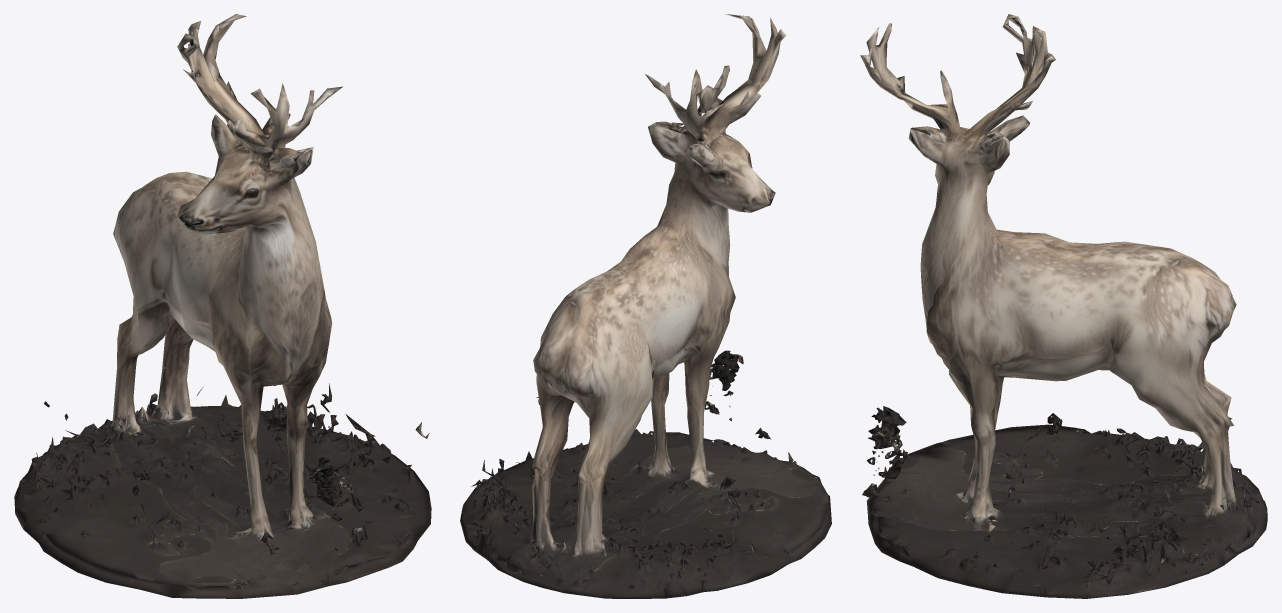
The model's file is shika.glb.
3 renders of one model, left to right at view 1: azimuth 30°, elevation 25°; view 2: azimuth 150°, elevation 25°; view 3: azimuth 270°, elevation 25°, orthographic. The views are drawn at different scales.
Bounding box in the file's own units: 1.47 × 1.99 × 1.55.
Materials: 1 (1 with a texture image).
